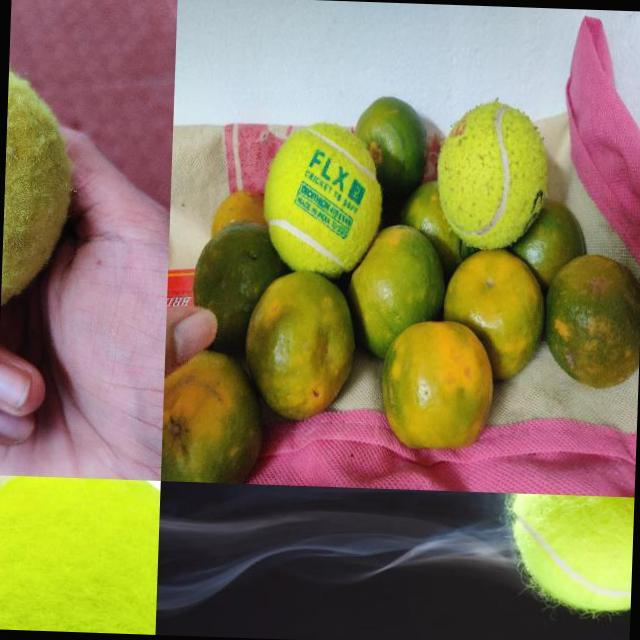Tennis Ball: (0, 474, 159, 633), (0, 46, 77, 324), (432, 98, 550, 251), (506, 493, 633, 613), (261, 119, 360, 271)
